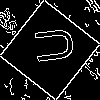U: (25, 25, 75, 67)
